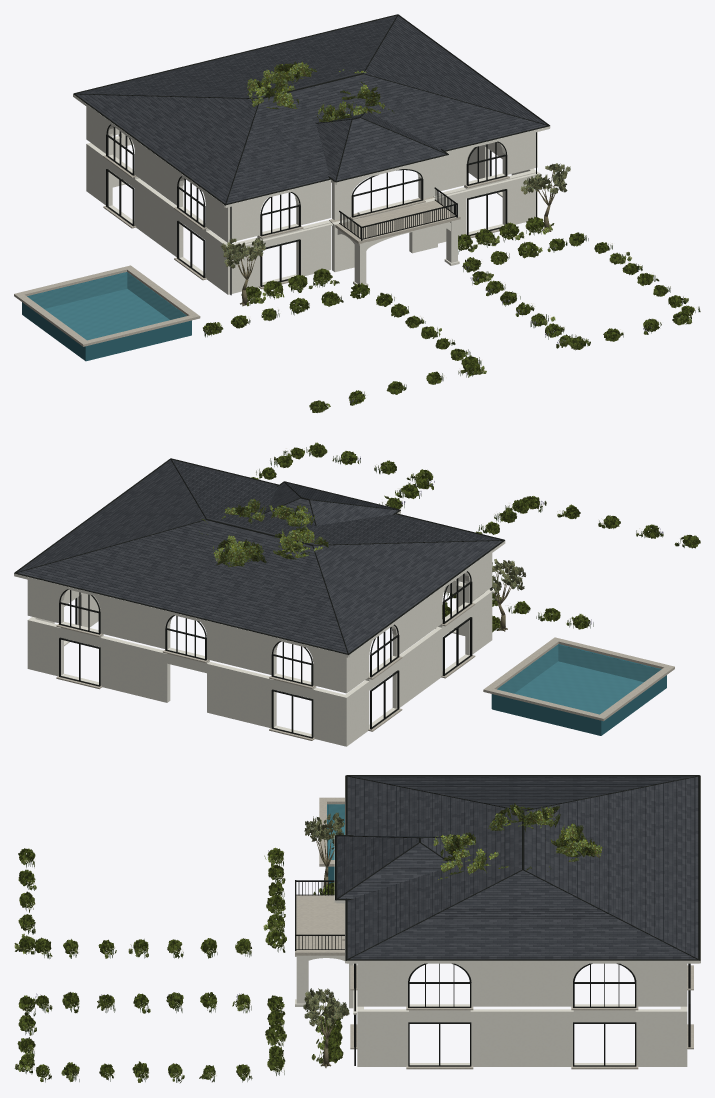
The model's file is estate.glb.
3 renders of one model, top to bottom at view 1: azimuth 30°, elevation 25°; view 2: azimuth 150°, elevation 25°; view 3: azimuth 270°, elevation 25°, orthographic. The views are drawn at different scales.
Visible parts, largest first — view 1: Roof_Main_Slate, House_White_Plasters, Roof_Slate_Course_Edges, Pool_Basin_Blue_Tile, Garden_Borders_Textured, Pool_Water_Surface, Roof_Central_Bay_Slate, House_Window_Frames, Roof_Gutters_And_Ridges, Tree_Prototype_Leaves, Pool_Limestone_Coping, Porch_And_Balcony_Stone (+8 smaller); view 2: Roof_Main_Slate, House_White_Plasters, Roof_Slate_Course_Edges, Pool_Basin_Blue_Tile, Pool_Water_Surface, House_Window_Frames, Garden_Borders_Textured, Tree_Prototype_Leaves, Roof_Gutters_And_Ridges, Pool_Limestone_Coping, Roof_Central_Bay_Slate, Roof_White_Fascia (+3 smaller); view 3: Roof_Main_Slate, House_White_Plasters, Roof_Slate_Course_Edges, Garden_Borders_Textured, Roof_Central_Bay_Slate, Roof_Gutters_And_Ridges, Tree_Prototype_Leaves, Porch_And_Balcony_Stone, House_Window_Frames, Front_Ornamental_Olives_Leaves_Textured, Roof_White_Fascia, House_Window_Sills (+10 smaller).
Boxes of the visible parts, bbox=[...] form: Roof_Main_Slate: bbox=[76, 15, 546, 203]; House_White_Plasters: bbox=[86, 107, 537, 294]; Roof_Slate_Course_Edges: bbox=[79, 16, 543, 201]; Pool_Basin_Blue_Tile: bbox=[22, 272, 191, 361]; Garden_Borders_Textured: bbox=[203, 232, 694, 412]; Pool_Water_Surface: bbox=[28, 273, 185, 339]; Roof_Central_Bay_Slate: bbox=[316, 112, 445, 180]; House_Window_Frames: bbox=[106, 124, 507, 286]; Roof_Gutters_And_Ridges: bbox=[73, 14, 549, 205]; Tree_Prototype_Leaves: bbox=[247, 61, 394, 122]; Pool_Limestone_Coping: bbox=[14, 265, 200, 346]; Porch_And_Balcony_Stone: bbox=[329, 196, 460, 244]; Roof_Main_Slate: bbox=[18, 460, 501, 653]; House_White_Plasters: bbox=[27, 553, 492, 746]; Roof_Slate_Course_Edges: bbox=[20, 460, 498, 651]; Pool_Basin_Blue_Tile: bbox=[491, 644, 666, 735]; Pool_Water_Surface: bbox=[497, 645, 659, 714]; House_Window_Frames: bbox=[59, 571, 472, 738]; Garden_Borders_Textured: bbox=[251, 442, 700, 629]; Tree_Prototype_Leaves: bbox=[199, 499, 328, 567]; Roof_Gutters_And_Ridges: bbox=[14, 458, 504, 655]; Pool_Limestone_Coping: bbox=[483, 637, 674, 721]; Roof_Central_Bay_Slate: bbox=[265, 483, 398, 525]; Roof_White_Fascia: bbox=[14, 511, 505, 657]; Roof_Main_Slate: bbox=[347, 776, 698, 959]; House_White_Plasters: bbox=[349, 963, 687, 1066]; Roof_Slate_Course_Edges: bbox=[340, 776, 695, 957]; Garden_Borders_Textured: bbox=[17, 847, 286, 1078]; Roof_Central_Bay_Slate: bbox=[337, 836, 452, 898]; Roof_Gutters_And_Ridges: bbox=[335, 775, 700, 960]; Tree_Prototype_Leaves: bbox=[433, 803, 602, 879]; Porch_And_Balcony_Stone: bbox=[295, 895, 344, 955]; House_Window_Frames: bbox=[354, 963, 690, 1066]; Front_Ornamental_Olives_Leaves_Textured: bbox=[303, 812, 349, 1026]; Roof_White_Fascia: bbox=[334, 776, 700, 963]; House_Window_Sills: bbox=[342, 903, 693, 1069].
Size of the model in its own units: 38.73 by 11.08 by 39.57.
Materials: 19 (11 with a texture image).
